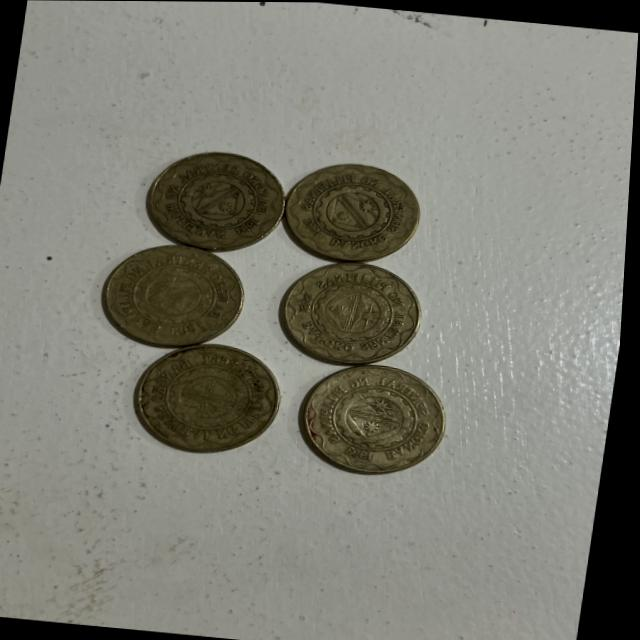5_Old_Back: (297, 360, 457, 481), (268, 259, 440, 370), (147, 139, 298, 257), (289, 162, 438, 269)
